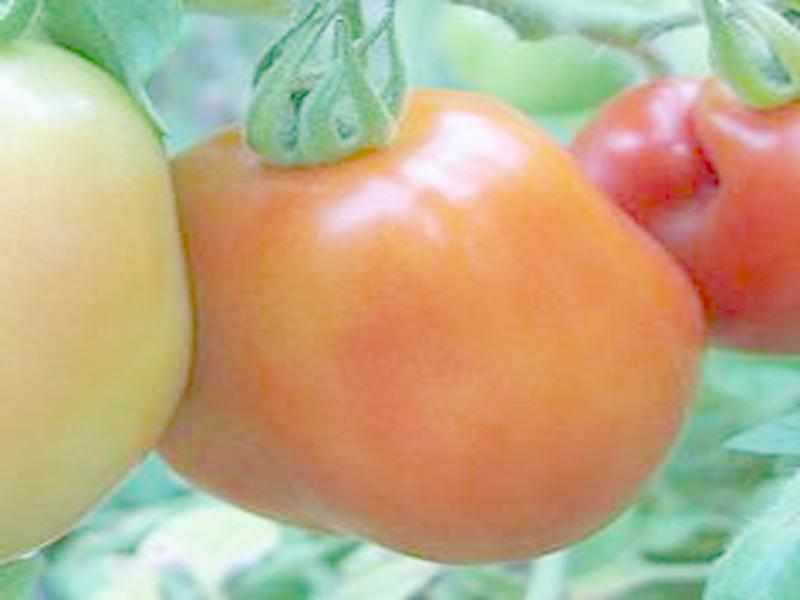Tomato: (181, 90, 704, 564)
